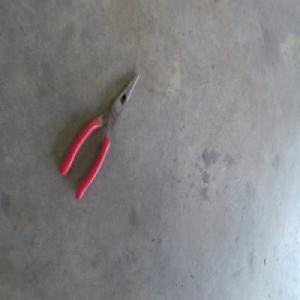Pliers: (60, 73, 140, 201)
